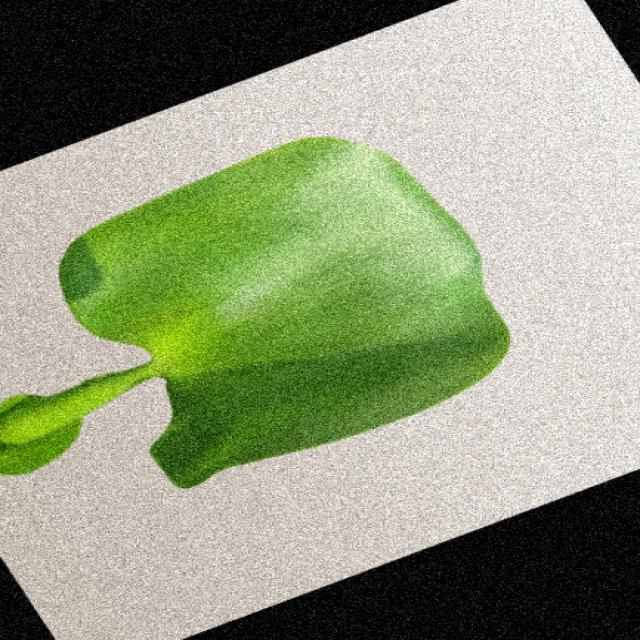daun sehat: (0, 138, 508, 488)
